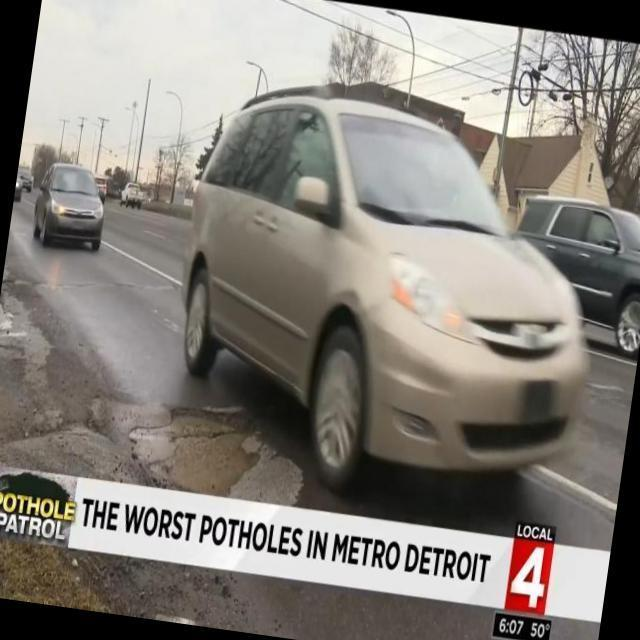Pothole: (102, 401, 288, 499), (0, 293, 22, 343)
